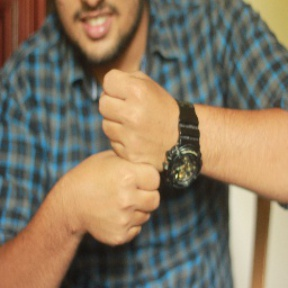G: (71, 64, 180, 253)
